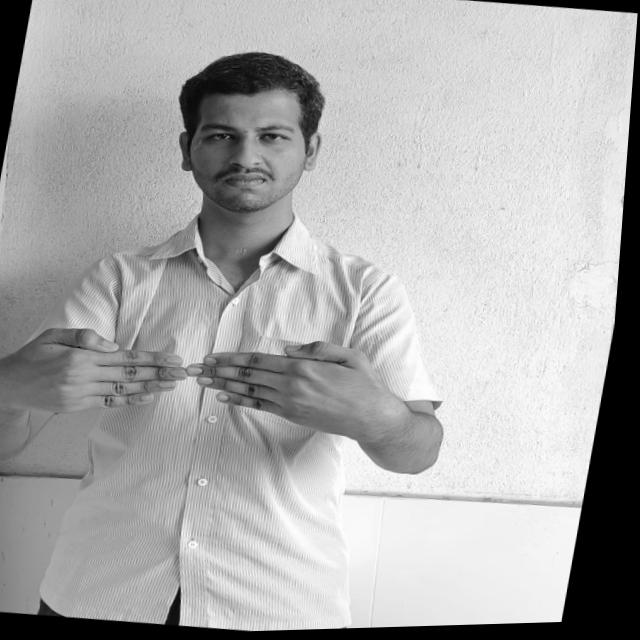Night: (0, 308, 406, 451)
